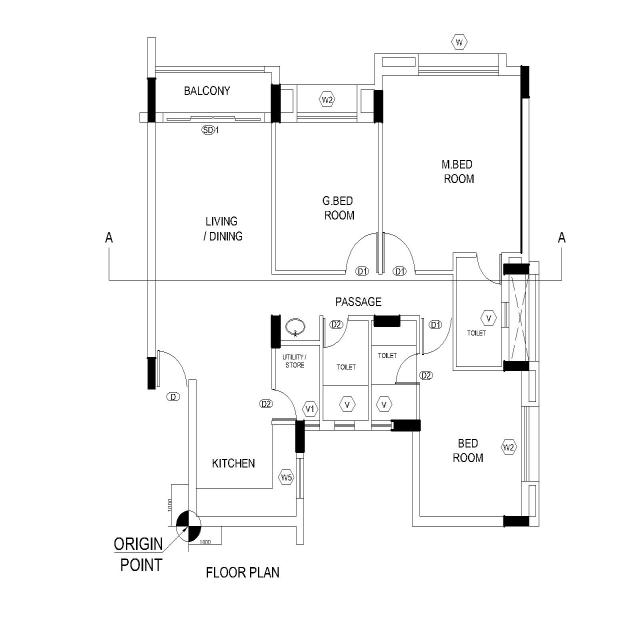Column: (270, 83, 282, 125), (146, 76, 156, 124), (390, 419, 422, 433), (294, 418, 306, 455), (519, 64, 531, 100), (270, 313, 282, 349), (373, 88, 384, 125), (502, 262, 531, 276), (146, 356, 157, 392), (502, 514, 530, 528), (373, 314, 401, 328), (502, 360, 530, 372)
Door: (414, 314, 458, 322), (154, 383, 191, 392), (382, 268, 418, 277), (344, 268, 381, 276), (270, 386, 277, 426), (318, 314, 352, 322), (474, 251, 504, 259), (415, 350, 421, 387)
Sliding Door: (162, 110, 267, 125)
Ventilator: (500, 300, 511, 330), (334, 419, 356, 433), (302, 419, 321, 433), (370, 419, 388, 433)
Window: (418, 64, 500, 78), (296, 111, 358, 125), (520, 404, 530, 484), (294, 455, 306, 501)
